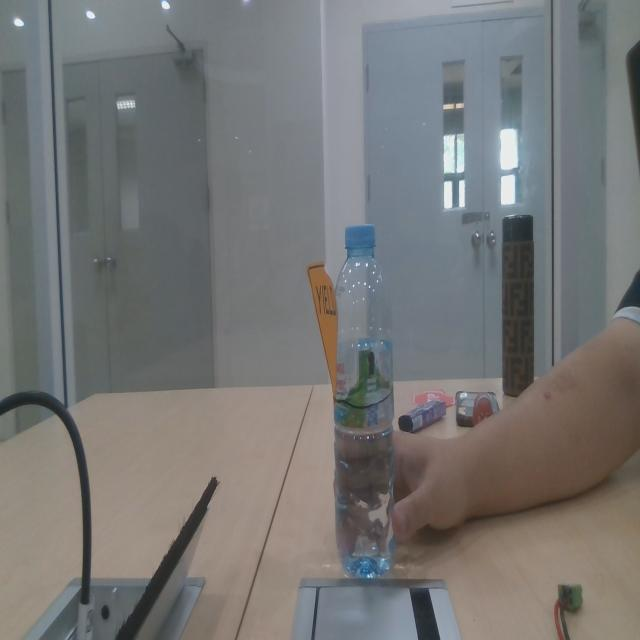Yield: (305, 255, 347, 418)
